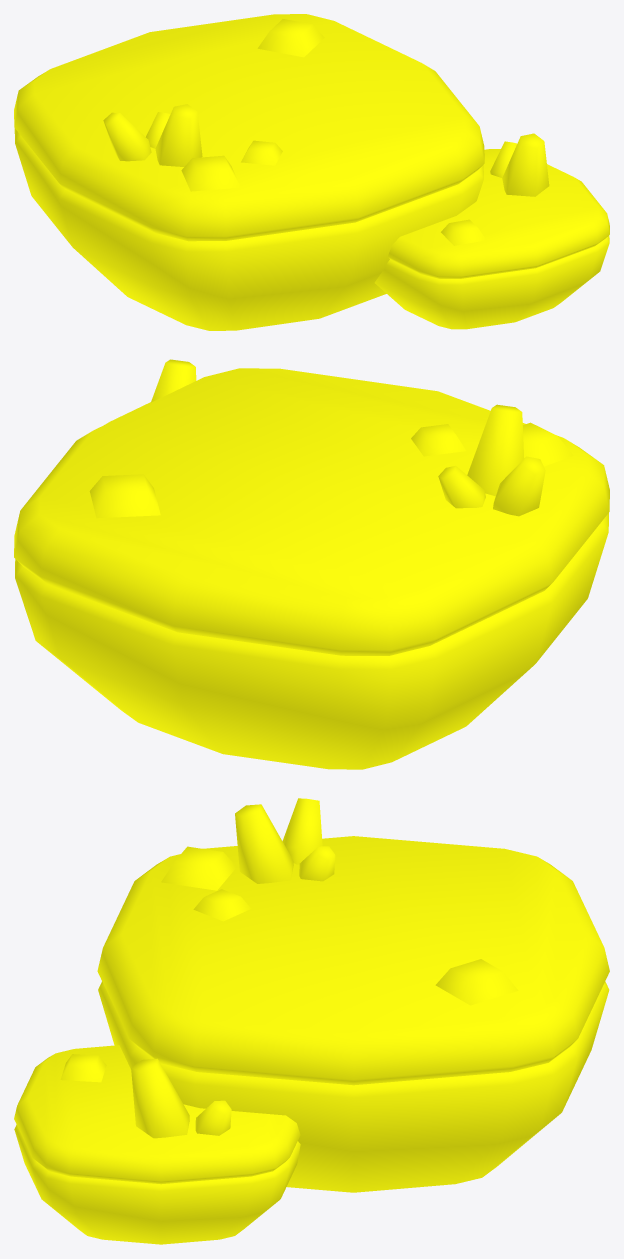
File: 建筑构件_平台.glb
3 renders of one model, top to bottom at view 1: azimuth 30°, elevation 25°; view 2: azimuth 150°, elevation 25°; view 3: azimuth 270°, elevation 25°, orthographic. The views are drawn at different scales.
Visible parts, largest first — view 1: platform; view 2: platform; view 3: platform.
Part boxes in pixels (x1,y1,x2,y2): platform: [14, 14, 609, 330]; platform: [14, 359, 609, 769]; platform: [14, 798, 609, 1244].
Bounding box in the file's own units: 1 × 0.4696 × 1.
1 material, 1 textured.
